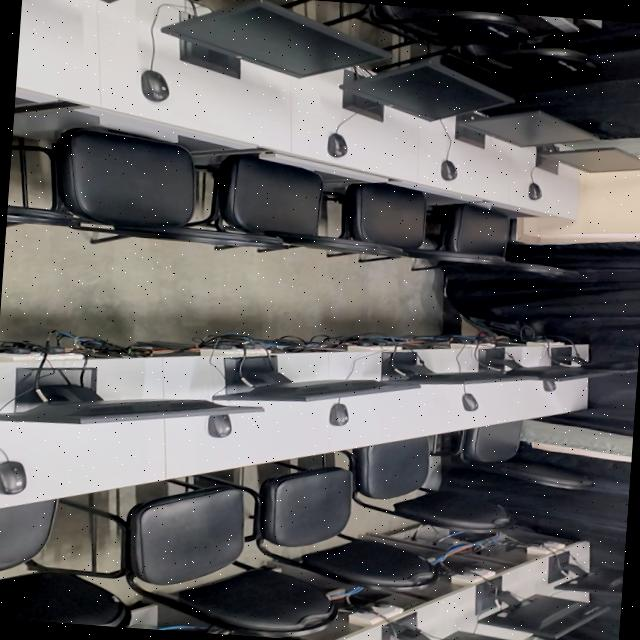Chair: (121, 476, 341, 634), (43, 126, 286, 248), (260, 461, 444, 590), (0, 496, 136, 627), (225, 159, 402, 254), (354, 438, 512, 532), (347, 182, 490, 261), (438, 201, 574, 276), (461, 416, 591, 488), (450, 35, 606, 82), (363, 2, 536, 44)
Monitor: (161, 0, 382, 81), (0, 376, 259, 441), (341, 55, 499, 126), (211, 364, 416, 412), (455, 104, 595, 154), (462, 587, 608, 634), (378, 348, 530, 390), (544, 546, 624, 598), (534, 145, 640, 178), (472, 360, 608, 384), (382, 623, 534, 640), (548, 348, 638, 373)
Mouse: (128, 63, 180, 108), (0, 457, 34, 496), (202, 412, 240, 442), (322, 129, 354, 159), (325, 401, 356, 428), (434, 156, 464, 182), (457, 389, 482, 413), (524, 179, 546, 202), (540, 378, 560, 392)
